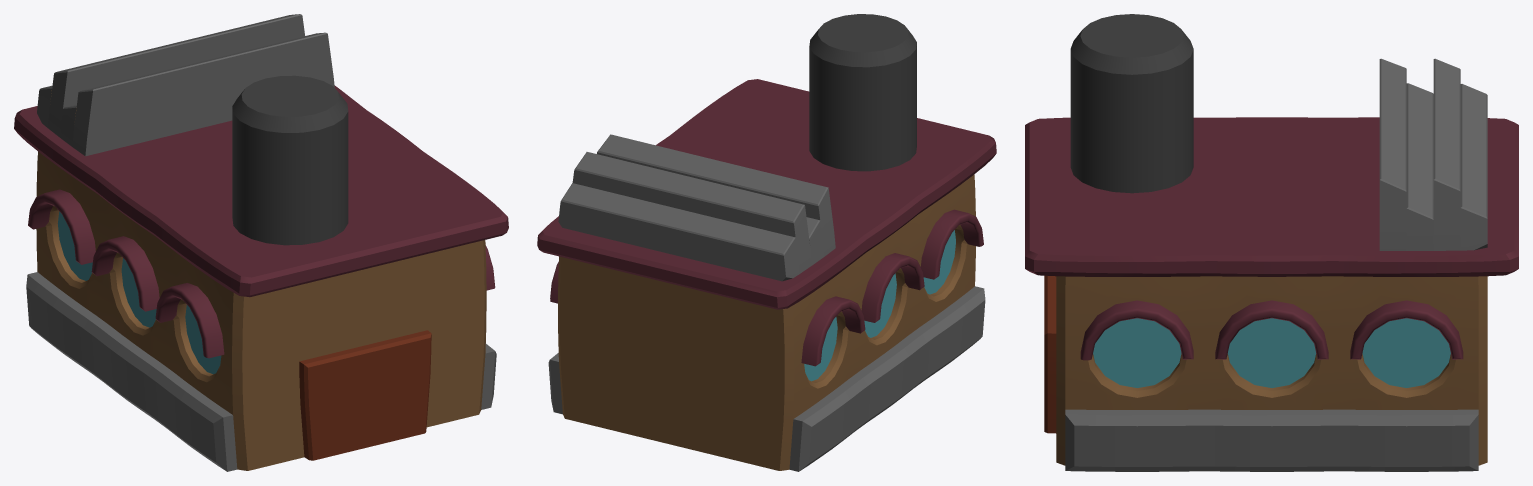
File: Fabriek 1.fbx
3 renders of one model, left to right at view 1: azimuth 30°, elevation 25°; view 2: azimuth 150°, elevation 25°; view 3: azimuth 270°, elevation 25°, orthographic. The views are drawn at different scales.
Parts seen in each view (by area): view 1: pCube1, pCylinder1; view 2: pCube1, pCylinder1; view 3: pCube1, pCylinder1.
Part boxes in pixels (x1=…): pCube1: x1=14, y1=14, x2=508, y2=471; pCylinder1: x1=232, y1=75, x2=348, y2=245; pCube1: x1=537, y1=79, x2=996, y2=471; pCylinder1: x1=809, y1=14, x2=916, y2=171; pCube1: x1=1025, y1=58, x2=1518, y2=471; pCylinder1: x1=1070, y1=14, x2=1193, y2=193.
Size of the model in its own units: 61.34 by 66.8 by 85.9.
